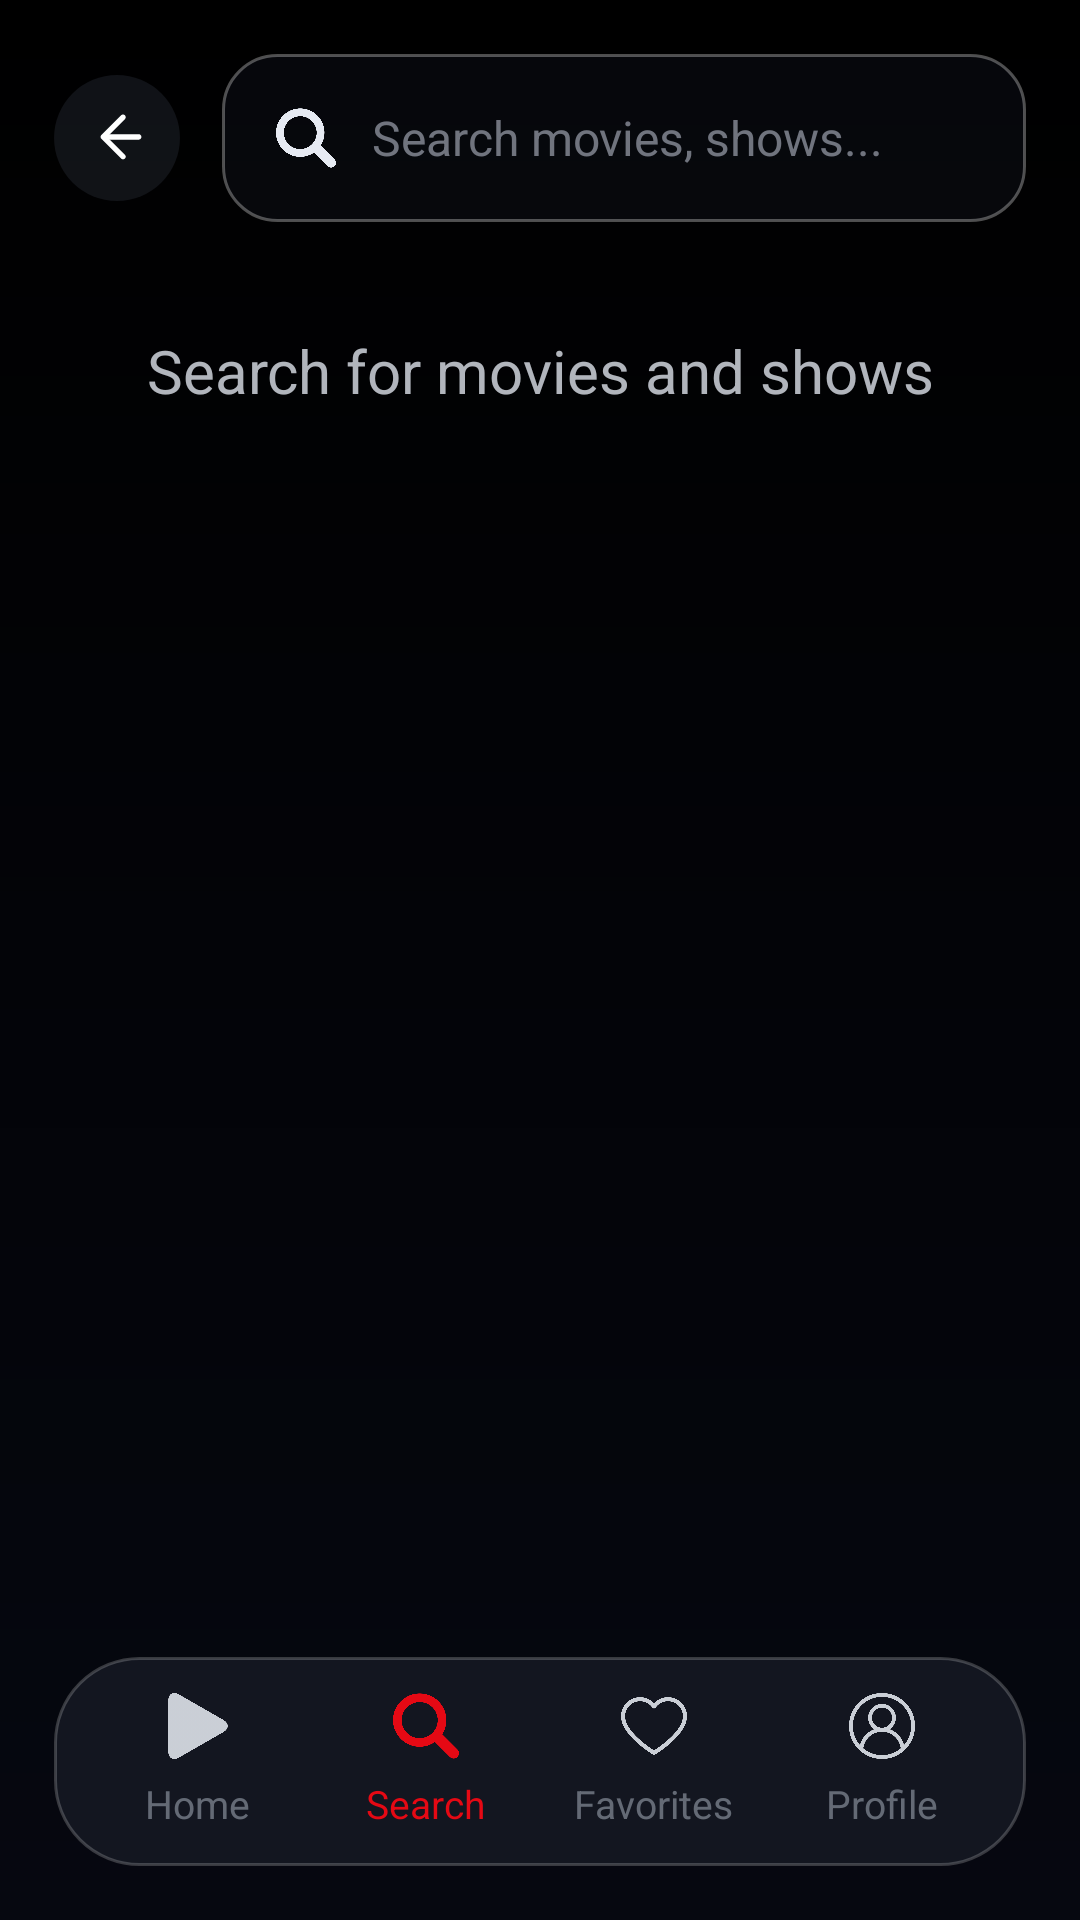

Point at icon controls on the screen. Image size 1080×1920, points as [x,y].
back: [117,138]
